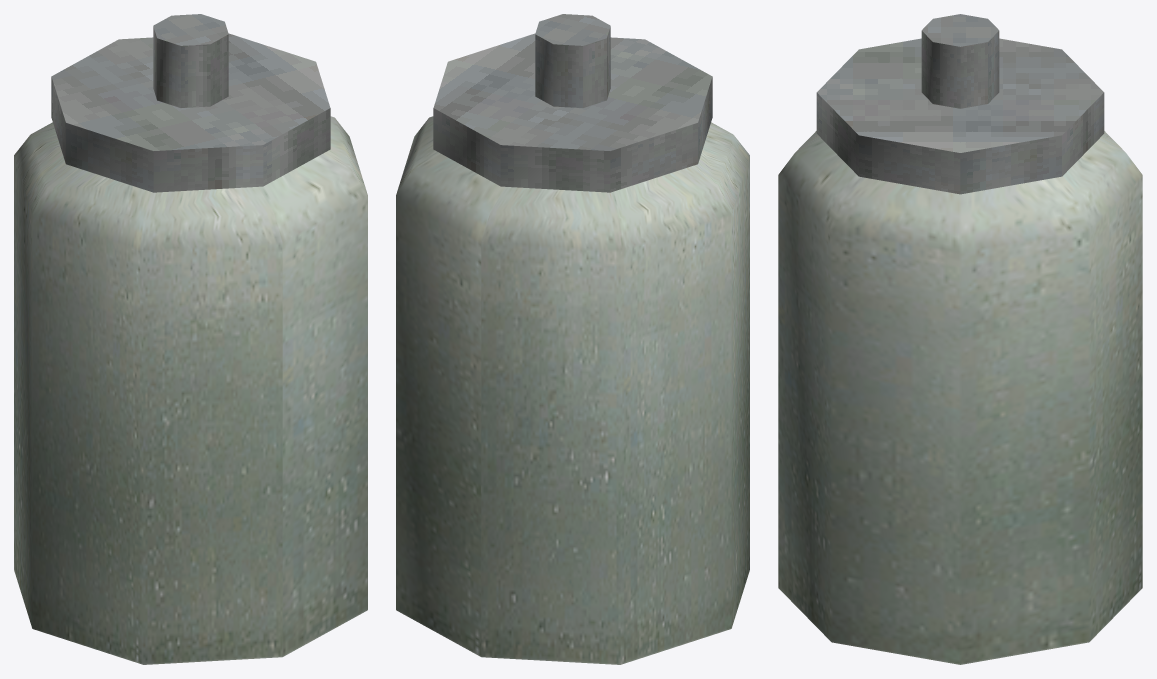
The model's file is edb_con_tato_jar_bugs_s01_l0.fbx.
The picture shows the model from 3 angles, left to right: view 1: azimuth 30°, elevation 25°; view 2: azimuth 150°, elevation 25°; view 3: azimuth 270°, elevation 25°; orthographic projection.
Visible parts, largest first — view 1: mesh_node; view 2: mesh_node; view 3: mesh_node.
Part boxes in pixels (box(x1,y1,x2,y2)): mesh_node: box(14, 14, 367, 664); mesh_node: box(396, 14, 749, 664); mesh_node: box(778, 14, 1142, 664).
Bounding box in the file's own units: 0.2 × 0.339 × 0.2.
